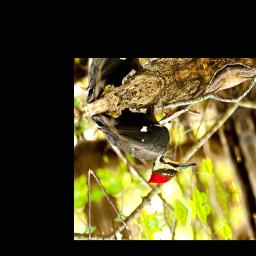Woodpecker: (90, 84, 199, 202)
